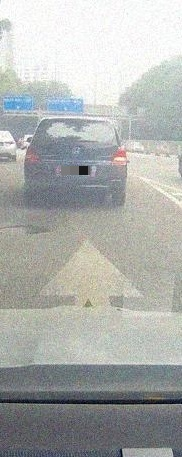L_light: (25, 146, 40, 165)
R_light: (113, 147, 126, 166)
T_light: (70, 118, 87, 121)
day-right: (24, 117, 127, 200)
plate_1: (61, 166, 90, 175)
